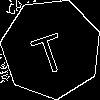T: (26, 24, 70, 77)
